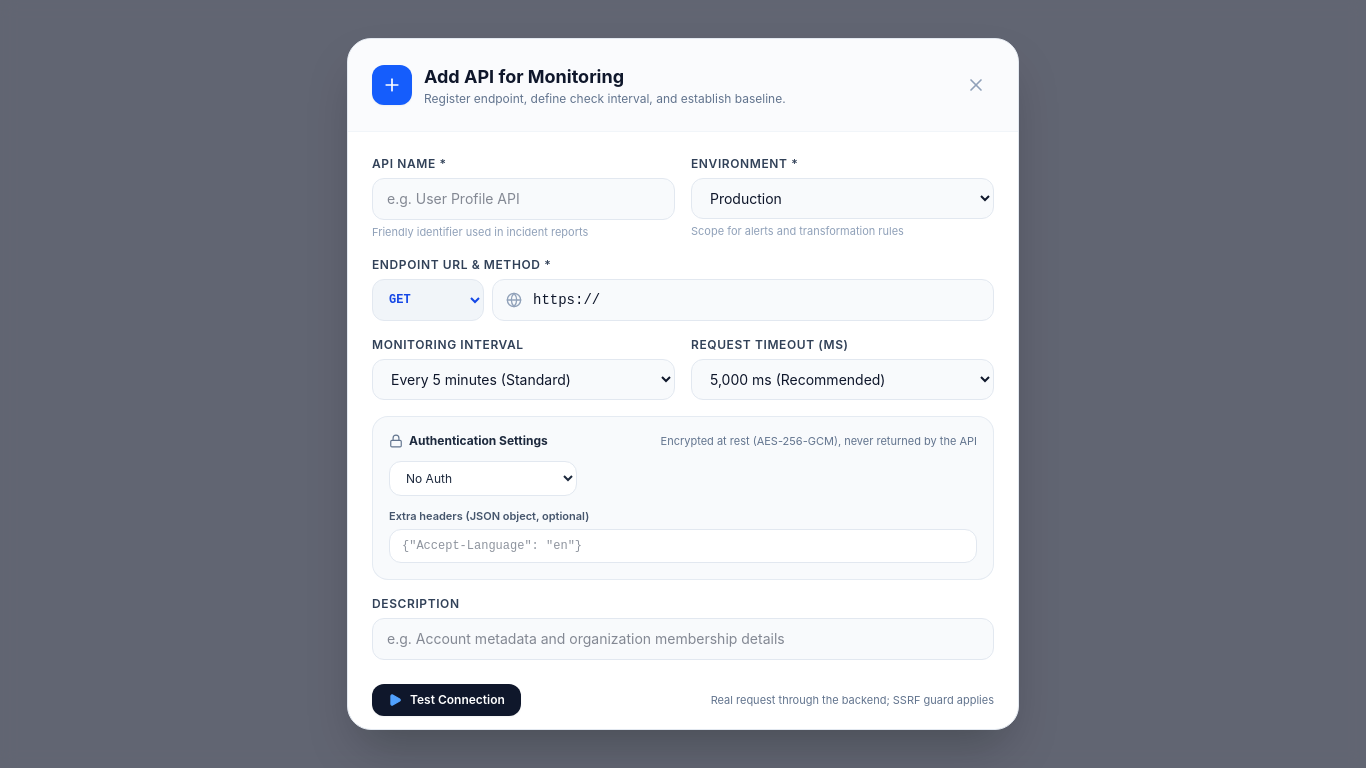
Scenario: AddApiModal › shows the SSRF block reason returned by the backend
Replace the text in the field labelled "Endpoint URL & Method *" with "http://127.0.0.1:3000/mock/x" at (743, 300), box [492,279,994,321]
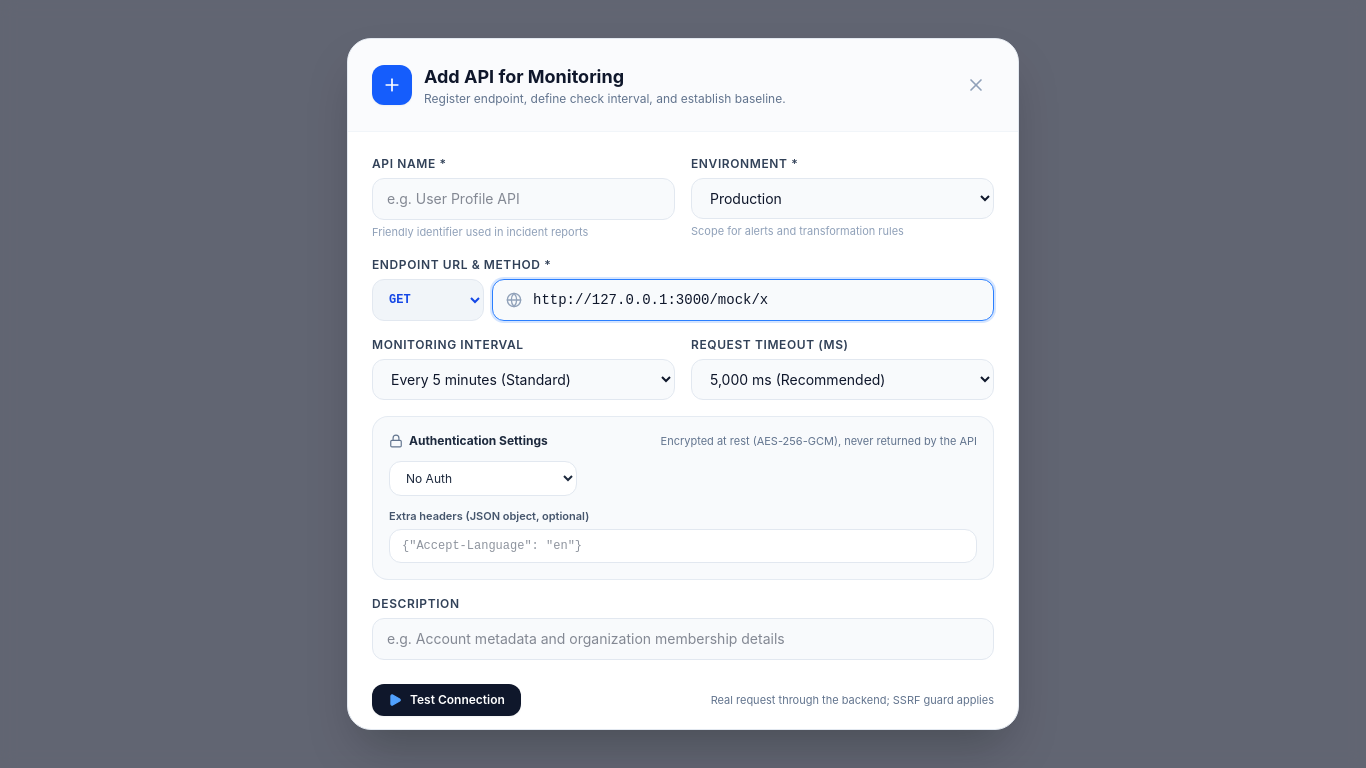
Click the button "Test Connection" at (446, 700), box [372,684,521,716]
(page scrolled)
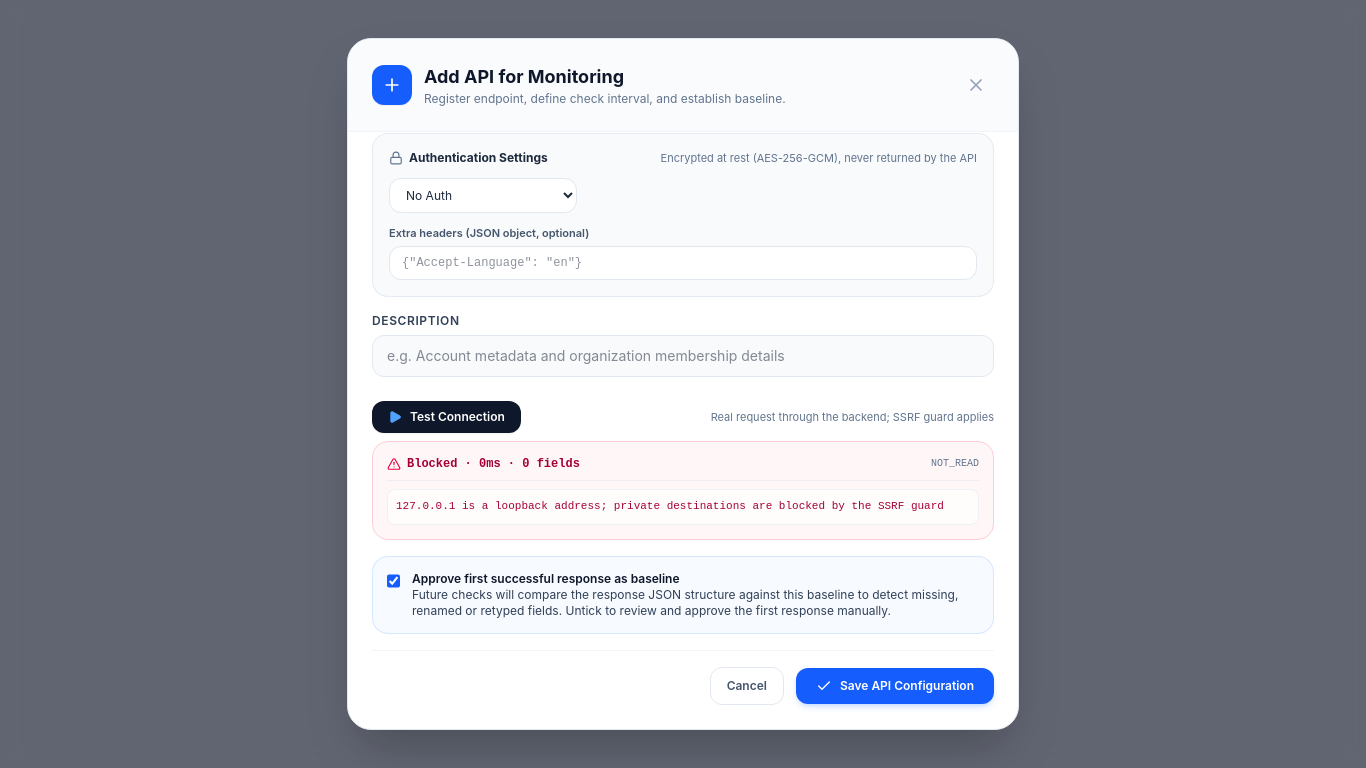
Now the element with test id "test-result" shows "loopback", box [396,500,944,512]
